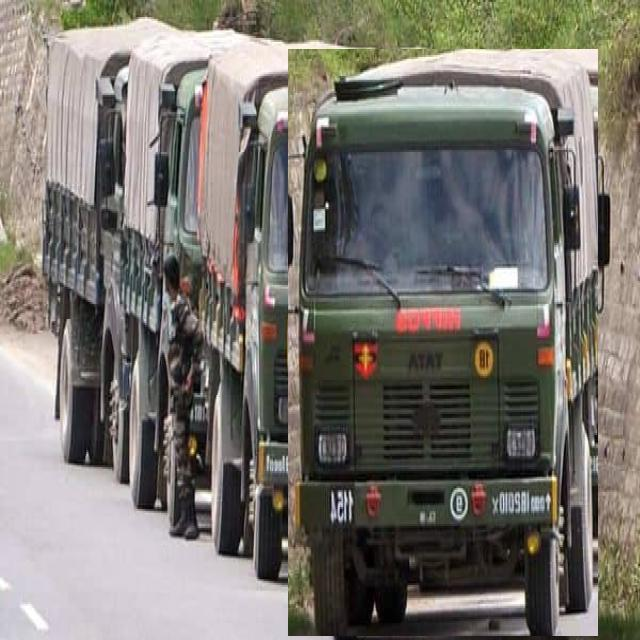truck: (289, 49, 598, 636), (199, 40, 335, 578)
